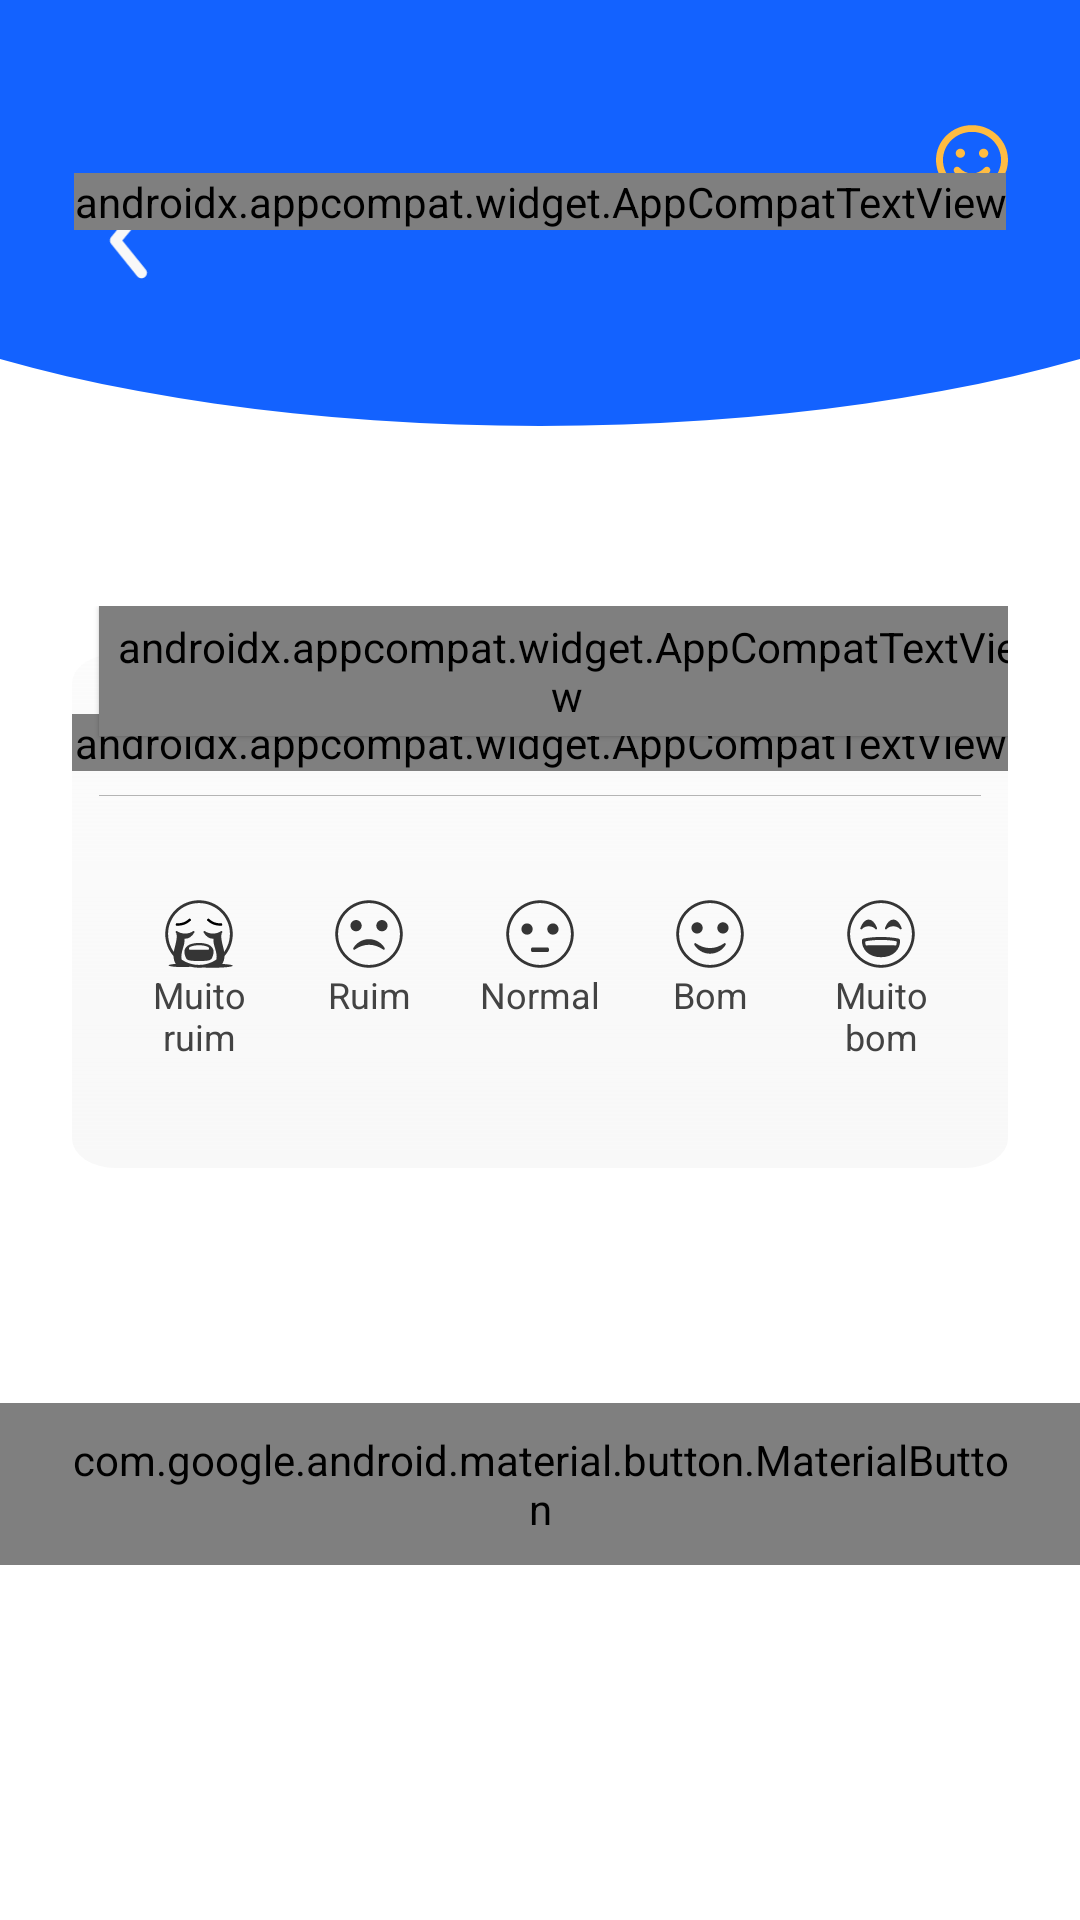

Where to tap for icons on this 1080px x 1920px app screen, as (x,y):
happy off: (710,934)
neutral off: (540,934)
sad off: (369,934)
very happy off: (881,934)
very sad off: (199,934)
